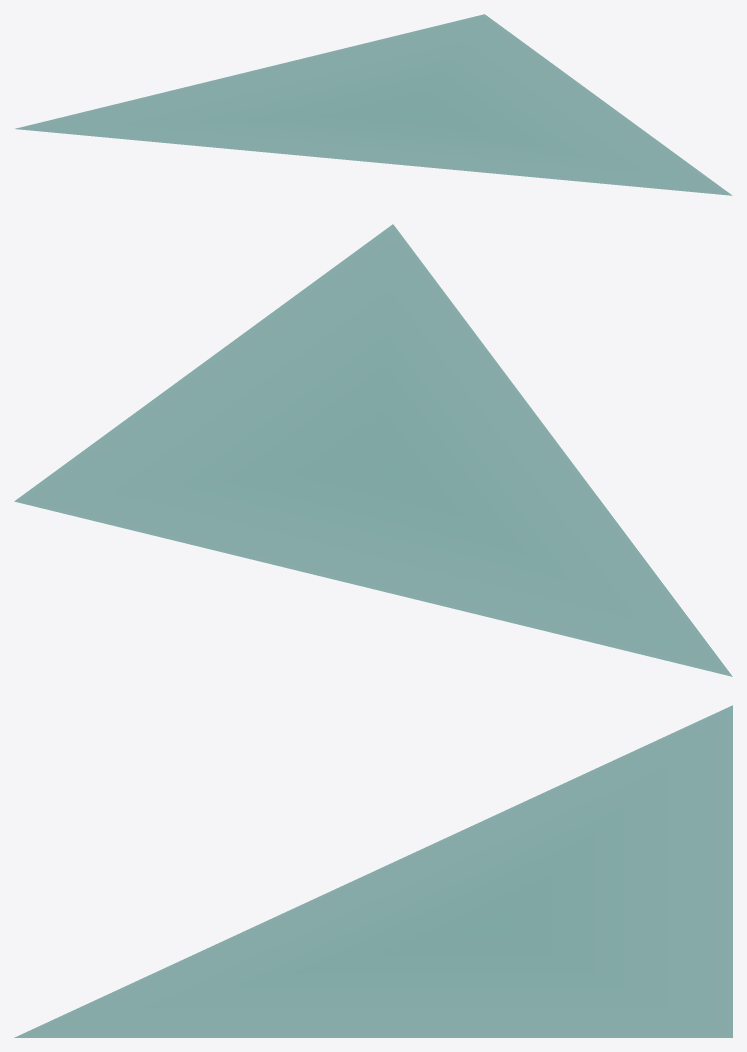
Rendered from water-11-19.glb.
3 renders of one model, top to bottom at view 1: azimuth 30°, elevation 25°; view 2: azimuth 150°, elevation 25°; view 3: azimuth 270°, elevation 25°, orthographic. The views are drawn at different scales.
Bounding box in the file's own units: 15 × 0 × 13.7.
